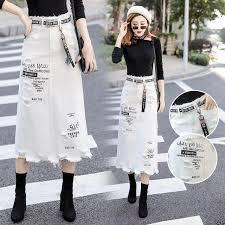skirt: (12, 12, 87, 159), (118, 74, 158, 173)
sweater: (111, 32, 173, 83)
